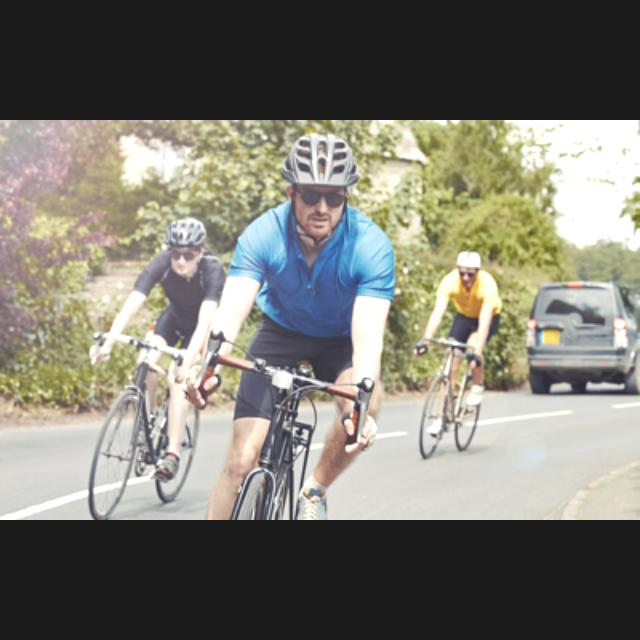With Helmet: (280, 125, 366, 251), (157, 212, 211, 278), (449, 236, 486, 288)
Without Helmet: (157, 212, 211, 278)
